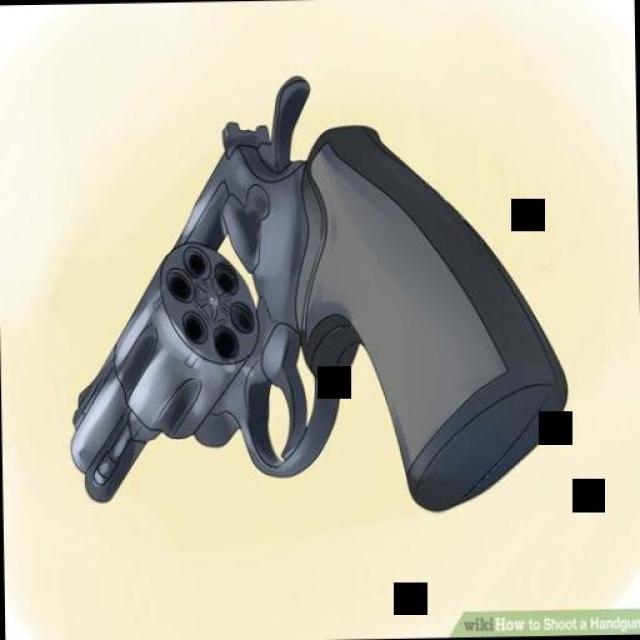gun: (62, 69, 554, 521)
